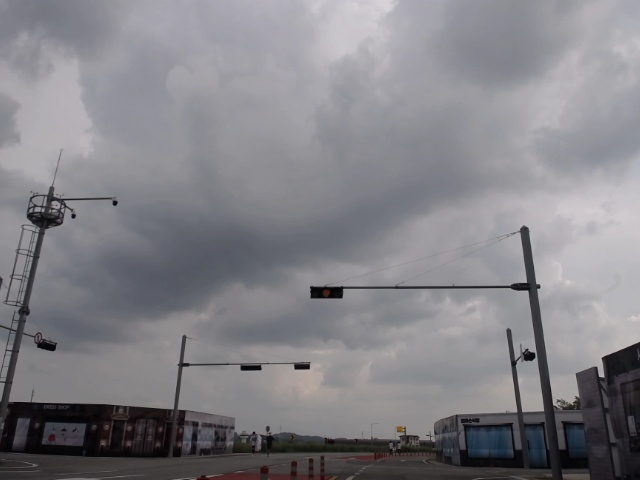orange_3: (310, 287, 344, 299)
